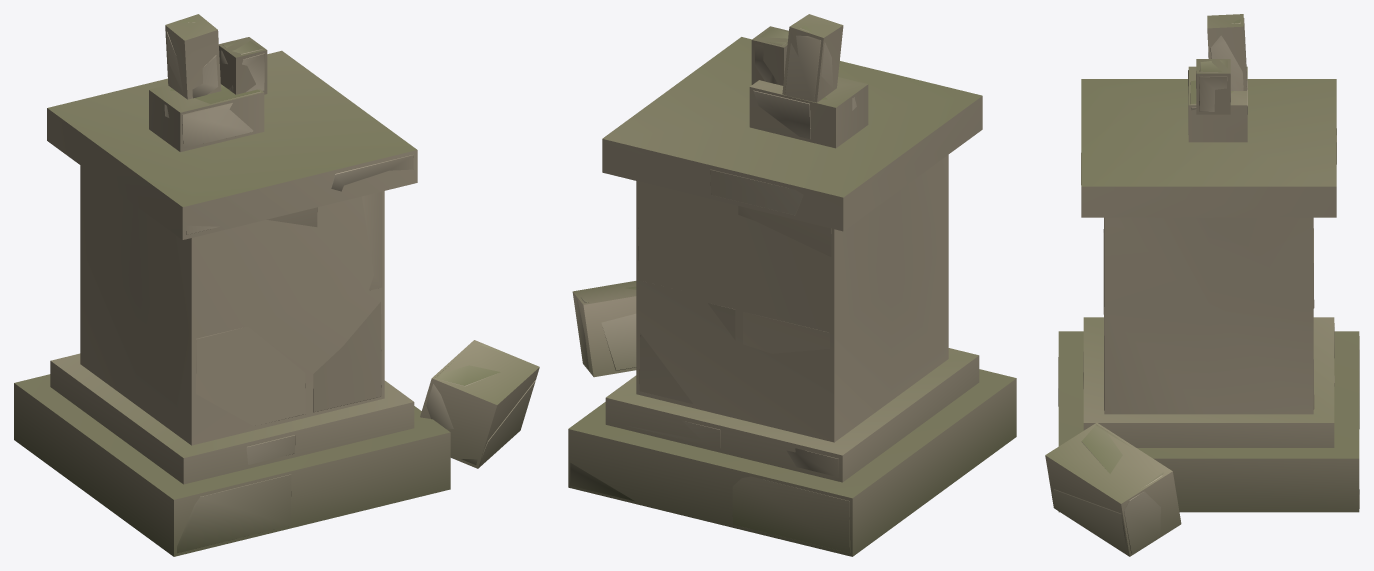
The model's file is agora_plinth.glb.
The picture shows the model from 3 angles, left to right: view 1: azimuth 30°, elevation 25°; view 2: azimuth 150°, elevation 25°; view 3: azimuth 270°, elevation 25°; orthographic projection. The views are drawn at different scales.
Parts seen in each view (by area): view 1: agora_plinth_far, agora_plinth; view 2: agora_plinth_far, agora_plinth; view 3: agora_plinth_far, agora_plinth.
Part boxes in pixels (x1,y1,x2,y2): agora_plinth_far: (14,14,539,556); agora_plinth: (164,18,535,553); agora_plinth_far: (568,14,1016,556); agora_plinth: (570,25,856,552); agora_plinth_far: (1045,14,1359,556); agora_plinth: (1052,18,1359,553).
Bounding box in the file's own units: 9.52 × 10.05 × 6.91.
